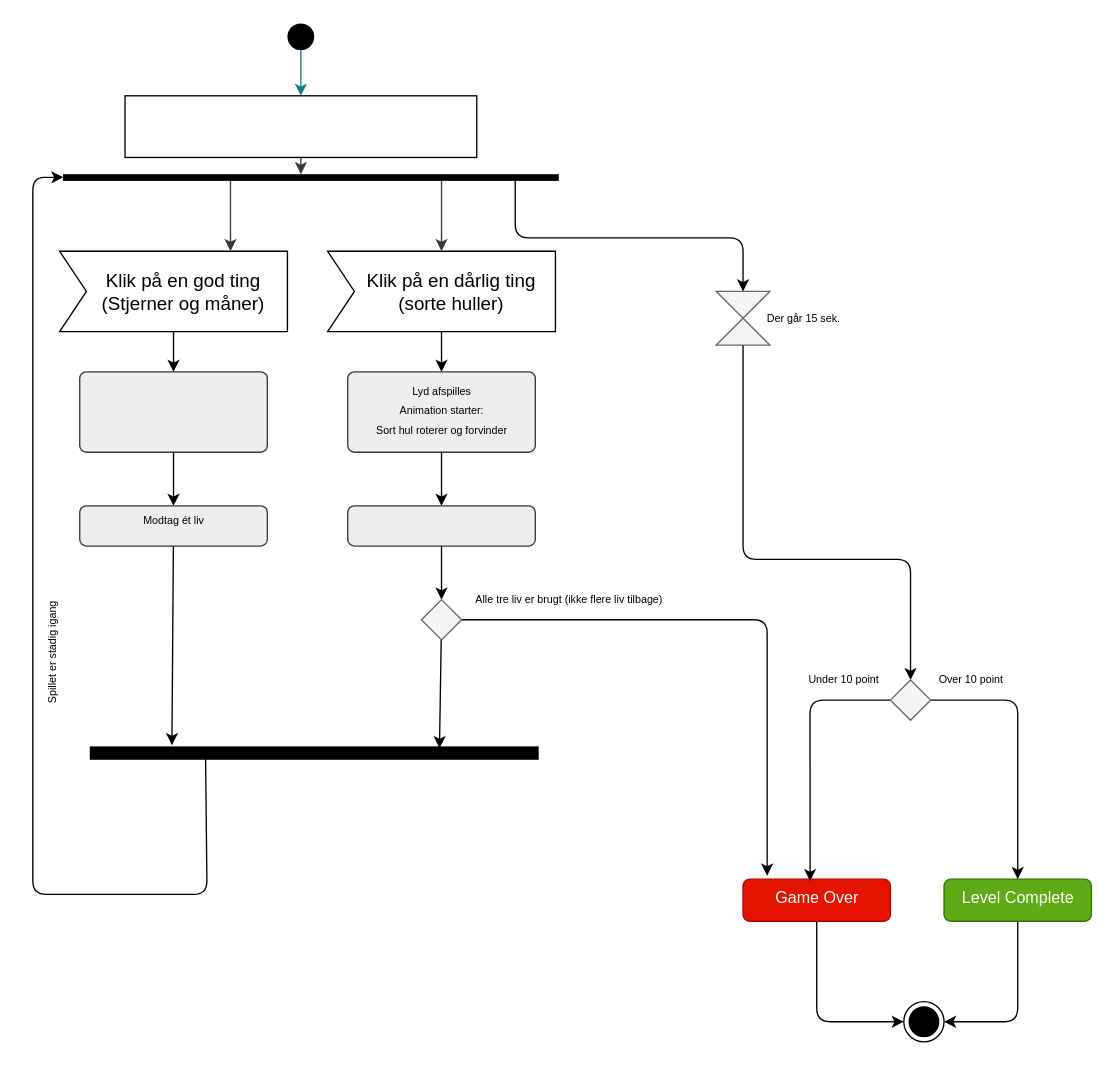
Image size: 1115x1065. Some labels were removed from this diagram. The box of each missing label's shape, as (x1, y1, x2, y2) in pixels:
Lyd afspilles Animation starter: Stjerne/måne roterer og forvinder: (78, 371, 267, 452)
Mist ét liv: (346, 505, 535, 546)
Stjerner, Måner og Sorte huller falder ned fra toppen: (124, 94, 477, 157)
